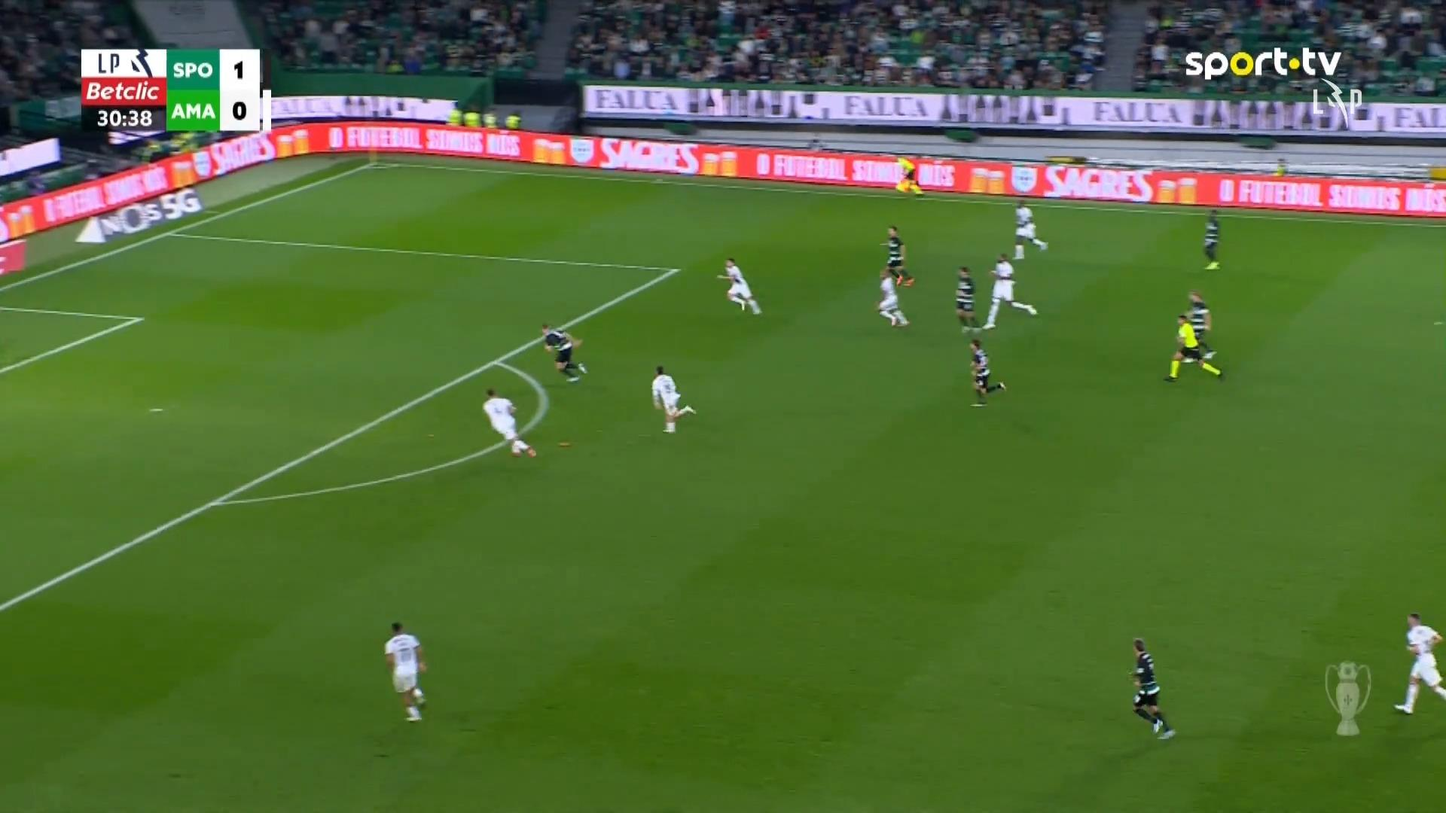player: (1393, 611, 1444, 714), (1128, 637, 1176, 740), (383, 620, 428, 721), (981, 252, 1038, 329), (482, 387, 536, 458), (651, 365, 696, 433), (539, 321, 587, 382), (715, 257, 762, 315), (967, 337, 1006, 406), (1183, 290, 1216, 358), (1012, 198, 1048, 260), (875, 265, 910, 327), (879, 225, 914, 287), (953, 265, 978, 333), (1202, 208, 1221, 269)
referee: (1163, 312, 1224, 382), (894, 154, 923, 195)
